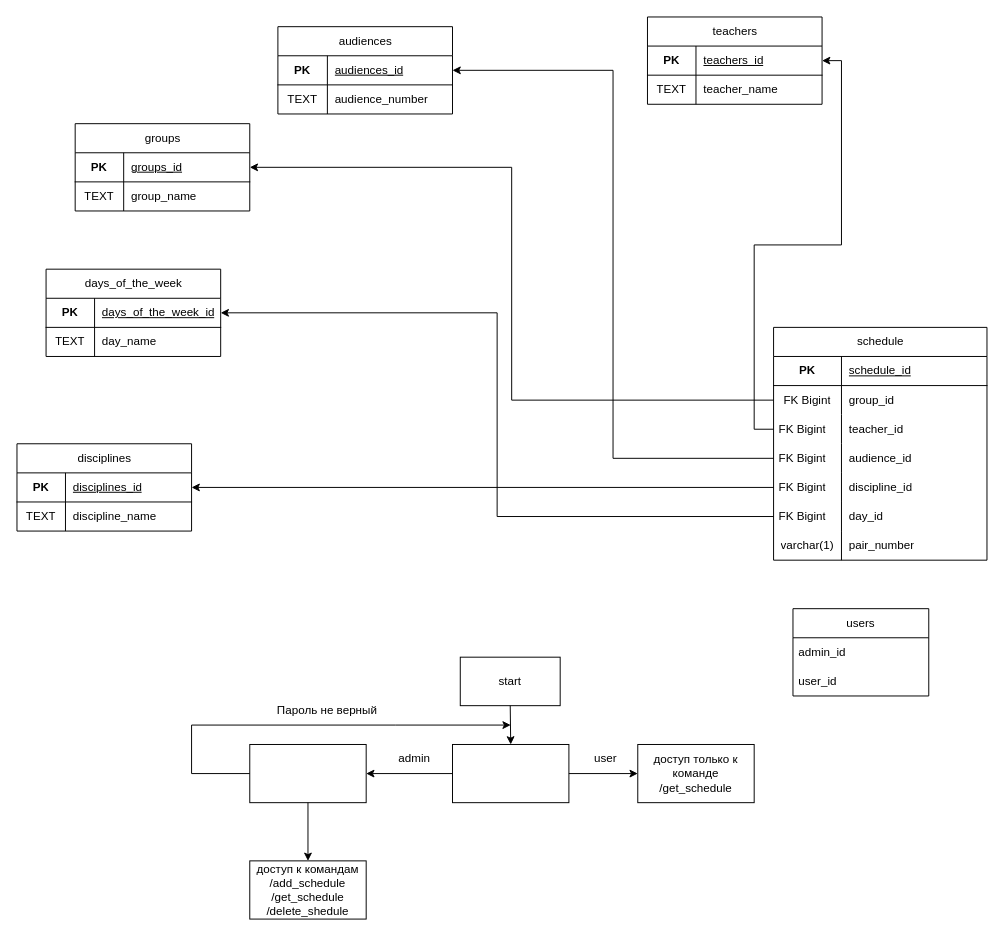
This 1004x936 diagram has some shape labels left out. The shapes that lost their labels are listed below. From the top down, each one's centre as x and y in pixels, then its label:
At (x=307, y=773): "запрос пароля".
At (x=510, y=773): "выбор,войти как admin или как user".
